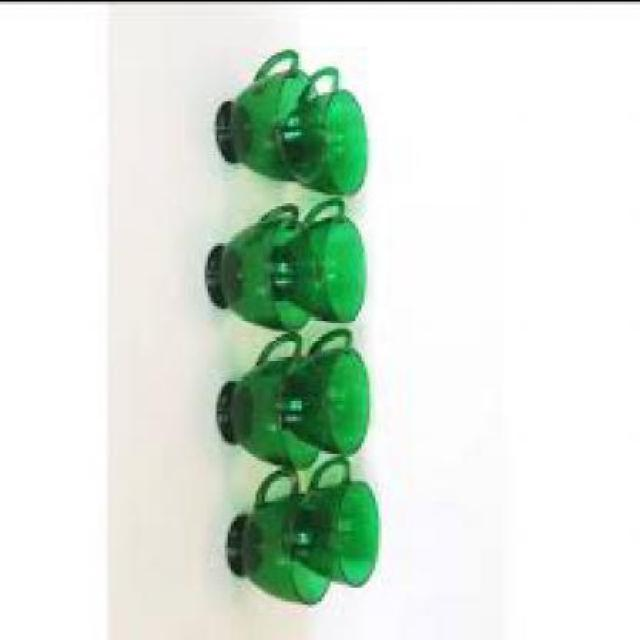glass: (214, 46, 328, 180), (224, 465, 336, 600), (205, 198, 322, 324), (217, 330, 325, 464), (282, 324, 372, 450), (296, 452, 382, 583), (294, 63, 374, 191), (298, 194, 369, 320)
